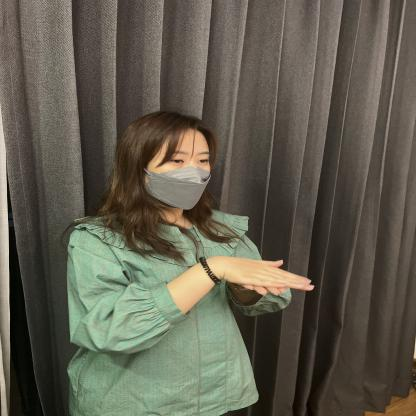Love: (111, 235, 386, 355)
